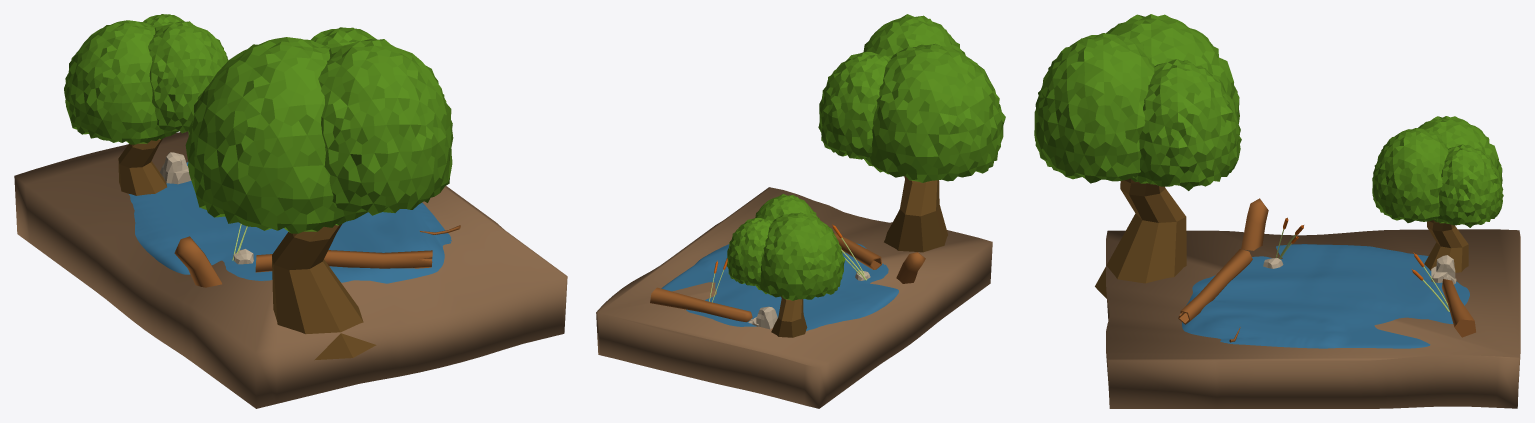
Rendered from swamp444.fbx.
3 views of the same model, side by side, from view 1: azimuth 30°, elevation 25°; view 2: azimuth 150°, elevation 25°; view 3: azimuth 270°, elevation 25° (orthographic). The views are drawn at different scales.
Parts seen in each view (by area): view 1: Plane, Icosphere.003, Icosphere, Plane.001, Cylinder.011, Cylinder106, Cylinder, Cylinder105, Cube; view 2: Plane, Icosphere.003, Icosphere, Plane.001, Cylinder.011, Cylinder104, Cylinder, Cylinder106, Cylinder105, Cube; view 3: Plane, Icosphere.003, Plane.001, Icosphere, Cylinder.011, Cylinder106, Cylinder, Cylinder105, Cylinder104, Cube.
Part boxes in pixels (box(x1,y1,x2,y2)): Plane: box(14, 131, 567, 408); Icosphere.003: box(185, 27, 453, 233); Icosphere: box(64, 14, 228, 144); Plane.001: box(129, 162, 451, 283); Cylinder.011: box(272, 224, 376, 360); Cylinder106: box(255, 250, 432, 272); Cylinder: box(118, 139, 166, 195); Cylinder105: box(174, 236, 221, 287); Cube: box(160, 152, 191, 184); Plane: box(596, 187, 992, 408); Icosphere.003: box(818, 14, 1005, 182); Icosphere: box(727, 194, 845, 300); Plane.001: box(661, 243, 898, 331); Cylinder.011: box(884, 176, 947, 252); Cylinder104: box(650, 287, 752, 322); Cylinder: box(771, 296, 807, 337); Cylinder106: box(834, 233, 881, 269); Cylinder105: box(896, 252, 925, 283); Cube: box(756, 306, 777, 329); Plane: box(1106, 229, 1520, 408); Icosphere.003: box(1034, 14, 1241, 190); Plane.001: box(1182, 244, 1469, 348); Icosphere: box(1372, 116, 1503, 227); Cylinder.011: box(1095, 178, 1186, 298); Cylinder106: box(1178, 249, 1252, 324); Cylinder: box(1424, 220, 1468, 272); Cylinder105: box(1241, 198, 1268, 250); Cylinder104: box(1442, 279, 1475, 337); Cube: box(1431, 255, 1455, 282).
Size of the model in its own units: 1198 by 1229 by 1725.
